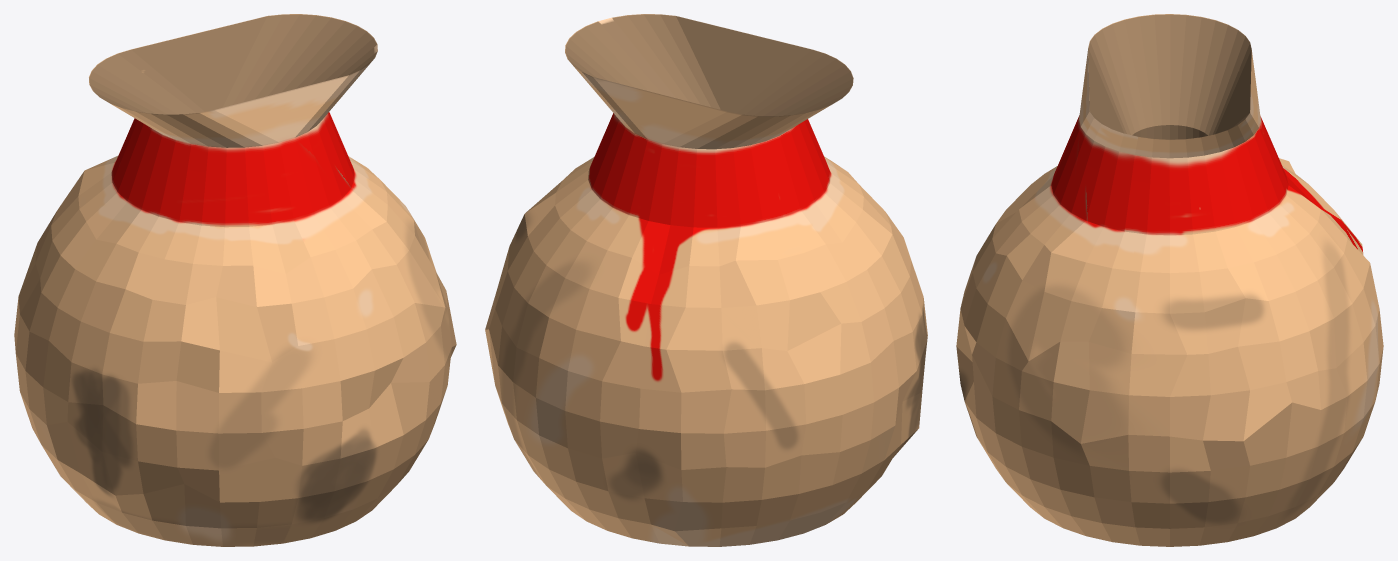
Rendered from seed bag.fbx.
3 views of the same model, side by side, from view 1: azimuth 30°, elevation 25°; view 2: azimuth 150°, elevation 25°; view 3: azimuth 270°, elevation 25° (orthographic). The views are drawn at different scales.
Visible parts, largest first — view 1: Sphere; view 2: Sphere; view 3: Sphere.
Boxes of the visible parts, left/top/right/bottom form: Sphere: left=14, top=14, right=456, bottom=546; Sphere: left=485, top=14, right=927, bottom=546; Sphere: left=956, top=14, right=1383, bottom=546.
Bounding box in the file's own units: 200 × 210 × 200.
Materials: 1 (1 with a texture image).
